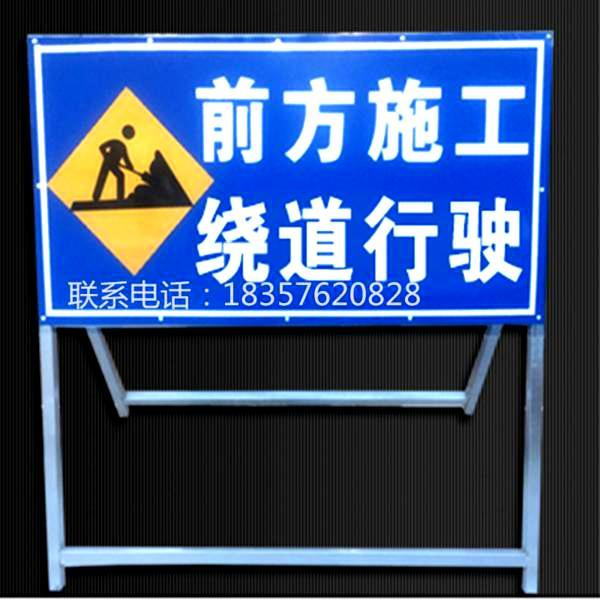sign: (31, 32, 543, 325)
